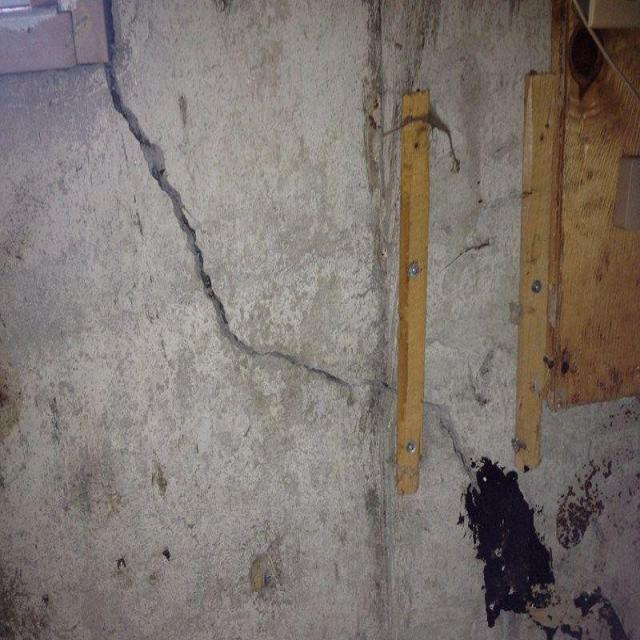crack: (101, 0, 352, 391)
